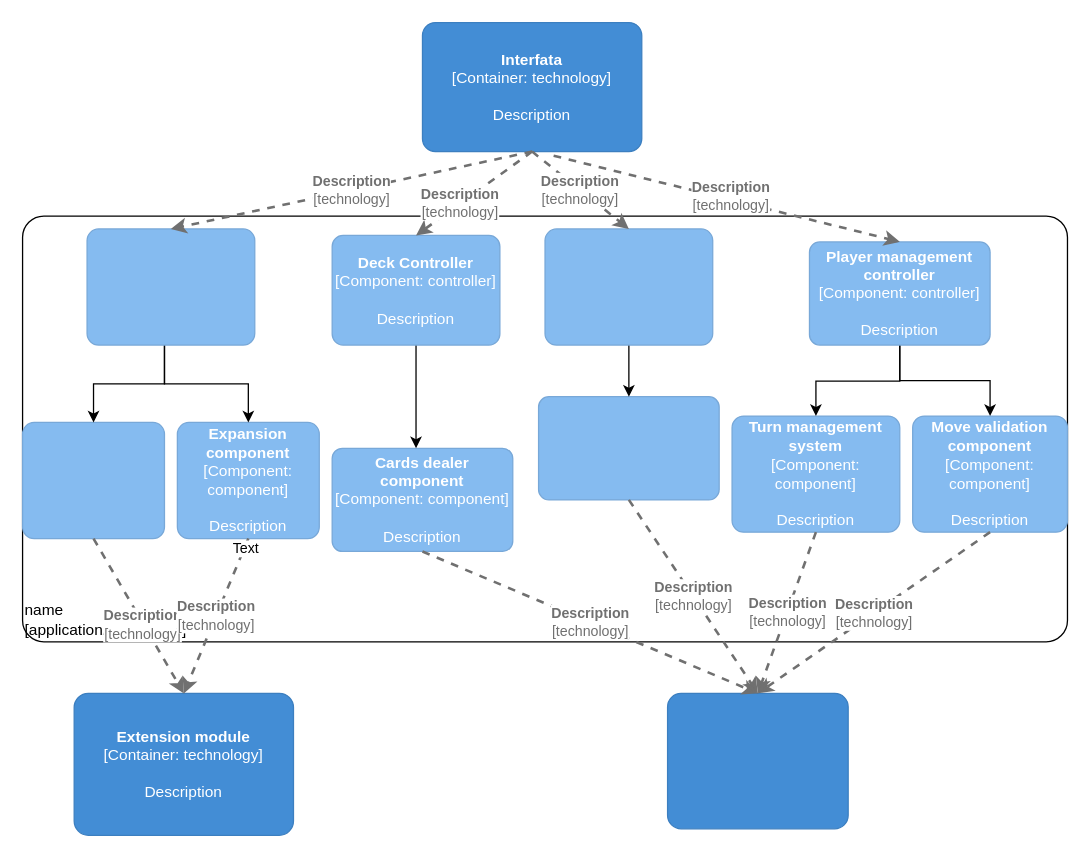
This 1090x858 diagram has some shape labels left out. Each missing label, with the centre of its shape:
"Board controller [Component: Controller] %c4Description%" belongs at pixel 170 286.
"Networking module [Container: technology] Description" belongs at pixel 757 760.
"Rules controller [Component: controller] Description" belongs at pixel 628 286.
"Rules modifier [Component: component] Description" belongs at pixel 628 447.
"Table Customizer [Component: component] Description" belongs at pixel 92 480.
